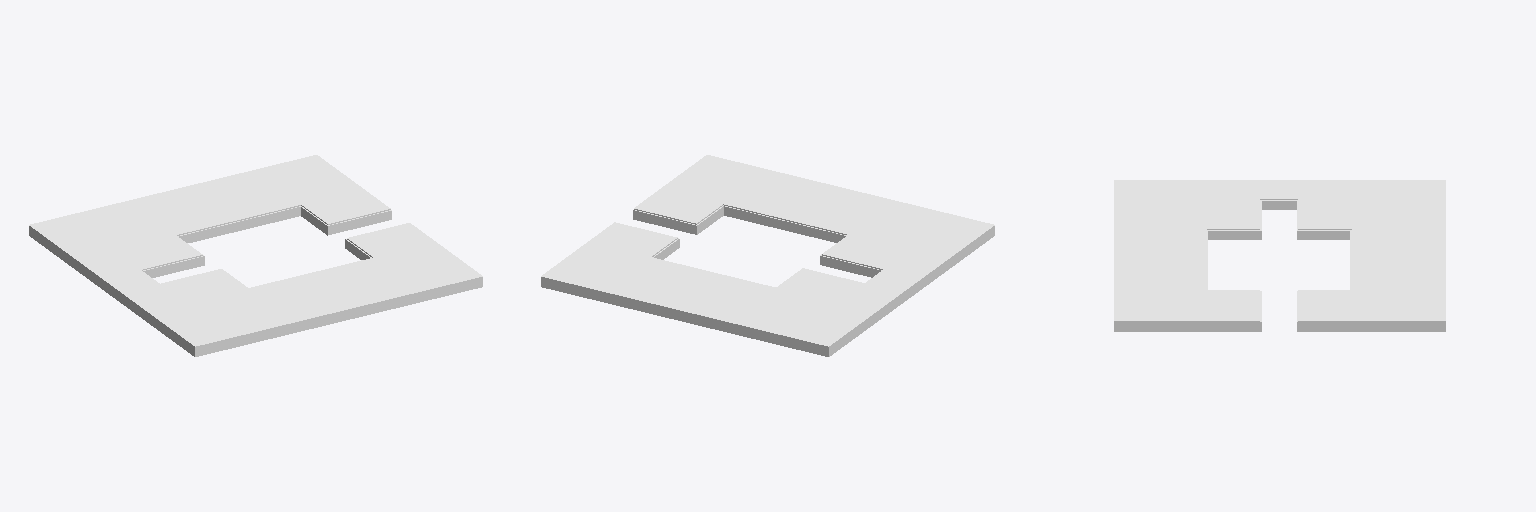
File: stage2-1-0-Stage2-1.obj
The picture shows the model from 3 angles: view 1: azimuth 30°, elevation 25°; view 2: azimuth 150°, elevation 25°; view 3: azimuth 270°, elevation 25°; orthographic projection.
Visible parts, largest first — view 1: Stage2-1; view 2: Stage2-1; view 3: Stage2-1.
Boxes of the visible parts, x1,y1,x2,y2 form: Stage2-1: [29, 155, 482, 356]; Stage2-1: [541, 155, 994, 356]; Stage2-1: [1114, 180, 1445, 331].
Size of the model in its own units: 25.6 by 0.9 by 25.6.